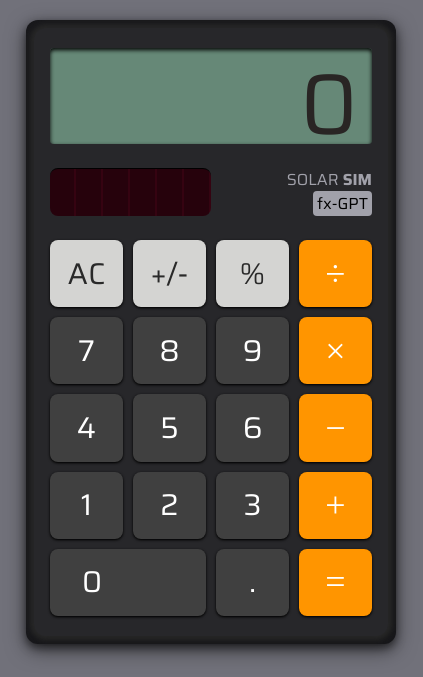
displays inputed decimal operand: .0 🡢 0.0
What coordinates should you click on to do the following:
click the button "."
I would click on:
 (252, 582)
Its box is [216,549,289,616].
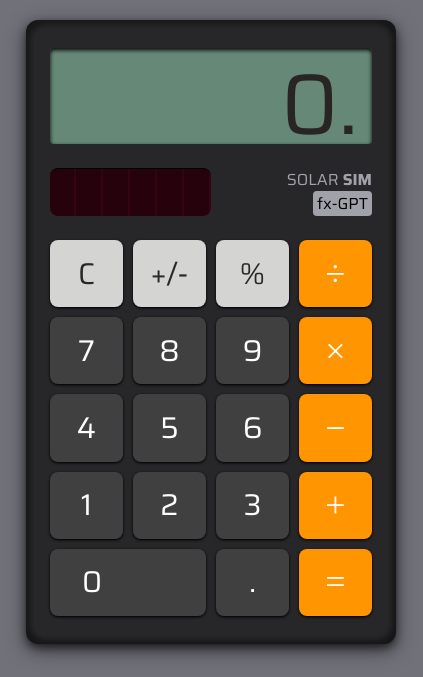
What coordinates should you click on to do the following:
click the button "0"
I would click on:
 (128, 582)
Its box is [50,549,206,616].
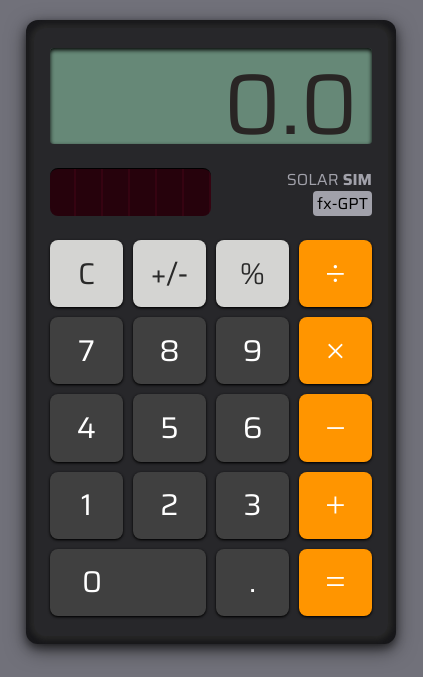
Expected: the text with test id "output" reads "0.0", [223,48,358,144]
